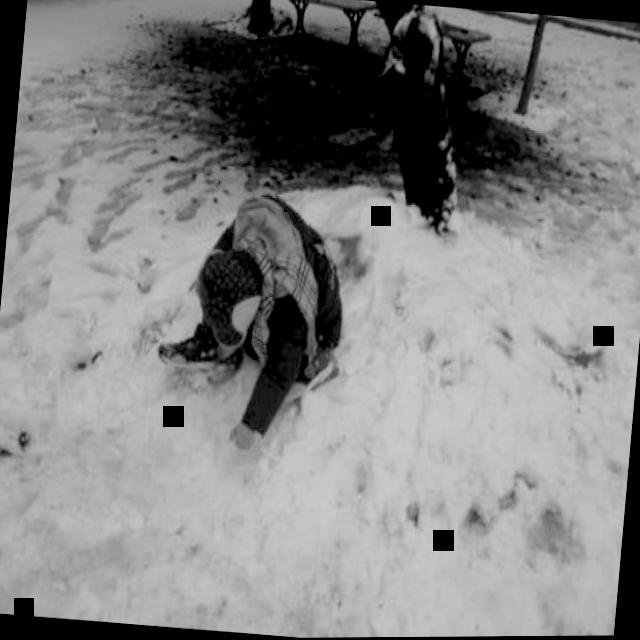Fall-Detected: (140, 158, 387, 471)
